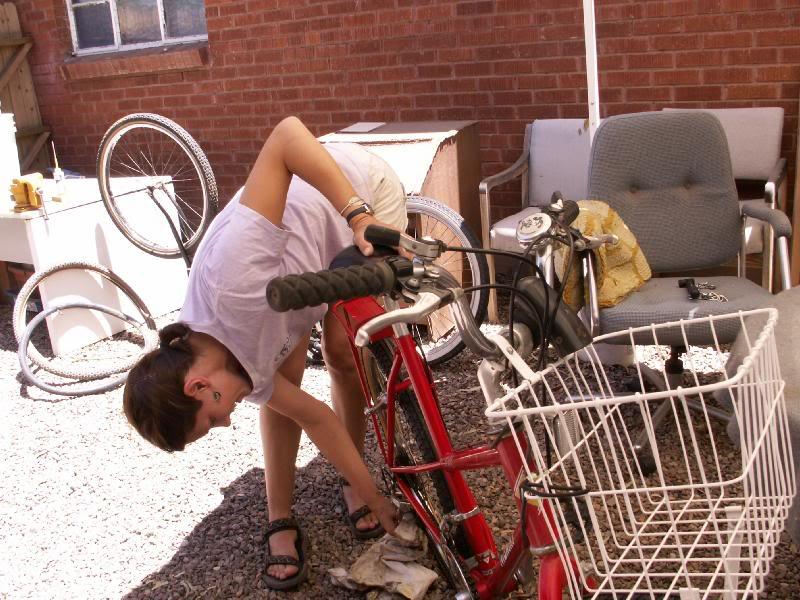person: (121, 114, 418, 593)
